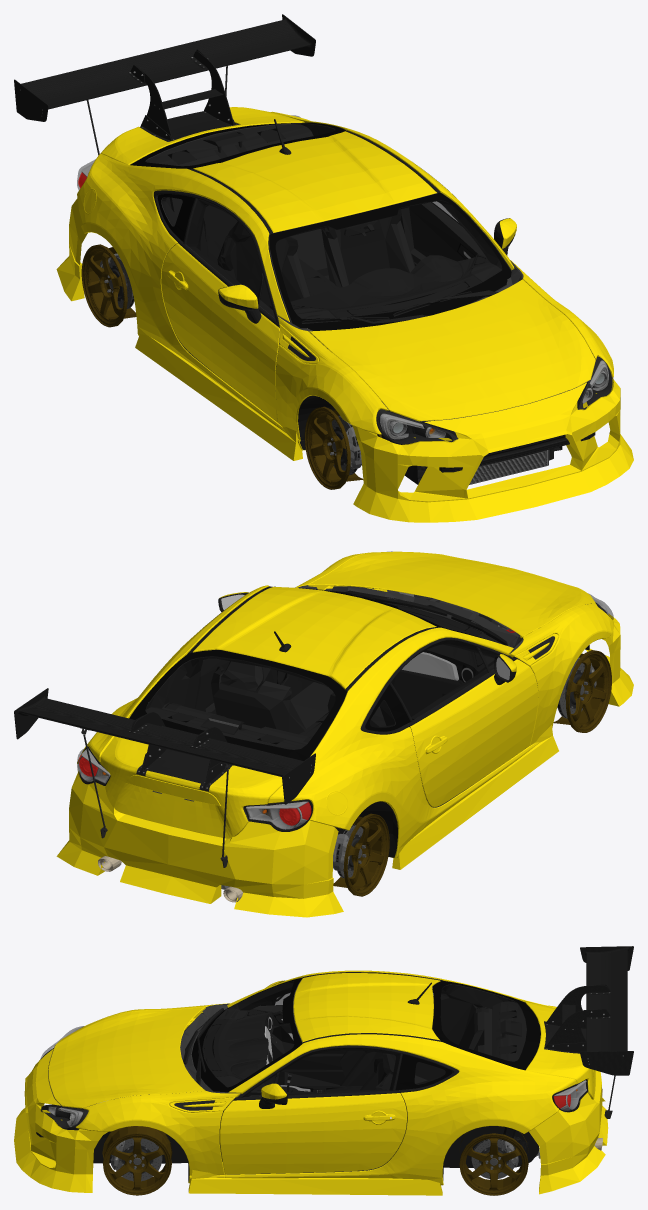
File: BRZ_URAS_Yellow7.glb
3 renders of one model, top to bottom at view 1: azimuth 30°, elevation 25°; view 2: azimuth 150°, elevation 25°; view 3: azimuth 270°, elevation 25°, orthographic. The views are drawn at different scales.
Parts seen in each view (by area): view 1: S1:Hood6_Mesh_022_M_Engine_Max_004_S1:M_CarPaint_Max1_0, S1:Interior5_Mesh_006_M_Interior_Max_S1:M_Interior_Max1_0, URAS_Object_10, S1:Glass6_Mesh_005_M_Opaque_PlasticRoughBlack_Max4_S1:M_Glas, S1:FendersR6_Mesh_019_M_CarPaint_Max_006_S1:M_CarPaint_Max1_, S1:Chassis7_Mesh_M_Opaque_PlasticSmoothBlack_Max_S1:M_CarPai, subaru:Wing6a_Carbon1_Geo_lodA_Wing6a_Carbon1_Geo_lodA_Subar, S1:DoorR4_Mesh_003_M_Opaque_PlasticSmoothBlack_Max1_S1:M_Car, S1:FenderFR6_Mesh_016_M_Opaque_PlasticRoughBlack_Max_008_S1:, S1:Glass6_Mesh_005_M_Opaque_PlasticRoughBlack_Max8_S1:Glass_, S1:DoorR_Glass4_Mesh_004_M_Glass_WindowRight_Low_S1:M_Glass_, URAS_Object_6 (+15 smaller); view 2: URAS_Object_8, S1:FendersR6_Mesh_019_M_CarPaint_Max_006_S1:M_CarPaint_Max1_, S1:Interior5_Mesh_006_M_Interior_Max_S1:M_Interior_Max1_0, S1:Chassis7_Mesh_M_Opaque_PlasticSmoothBlack_Max_S1:M_CarPai, S1:Glass6_Mesh_005_M_Opaque_PlasticRoughBlack_Max1_S1:M_Glas, S1:Hood6_Mesh_022_M_Engine_Max_004_S1:M_CarPaint_Max1_0, S1:DoorR4_Mesh_003_M_Opaque_PlasticSmoothBlack_Max1_S1:M_Car, subaru:Wing6a_Paint_Geo_lodA_Wing6a_Paint_Geo_lodA_Subaru_BR, subaru:Wing6a_Carbon1_Geo_lodA_Wing6a_Carbon1_Geo_lodA_Subar, S1:FenderFR6_Mesh_016_M_Opaque_PlasticRoughBlack_Max_008_S1:, S1:DoorR_Glass4_Mesh_004_M_Glass_WindowRight_Low_S1:M_Glass_, URAS_Object_6 (+14 smaller); view 3: S1:FendersR6_Mesh_019_M_CarPaint_Max_006_S1:M_CarPaint_Max1_, S1:Interior5_Mesh_006_M_Interior_Max_S1:M_Interior_Max1_0, S1:DoorL4_Mesh_001_M_Opaque_PlasticSmoothBlack_Max3_S1:M_Car, S1:Hood6_Mesh_022_M_Engine_Max_004_S1:M_CarPaint_Max1_0, S1:Chassis7_Mesh_M_Opaque_PlasticSmoothBlack_Max_S1:M_CarPai, subaru:Wing6a_Carbon1_Geo_lodA_Wing6a_Carbon1_Geo_lodA_Subar, S1:FenderFL6_Mesh_015_M_Opaque_PlasticRoughBlack_Max_007_S1:, URAS_Object_10, S1:Glass6_Mesh_005_M_Opaque_PlasticRoughBlack_Max4_S1:M_Glas, URAS_Object_8, S1:Glass6_Mesh_005_M_Opaque_PlasticRoughBlack_Max1_S1:M_Glas, S1:DoorL_Glass4_Mesh_002_M_Glass_WindowLeft_Low_S1:M_Glass_W (+18 smaller).
Boxes of the visible parts, x1,y1,x2,y2 form: S1:Hood6_Mesh_022_M_Engine_Max_004_S1:M_CarPaint_Max1_0: (309, 279, 595, 421); S1:Interior5_Mesh_006_M_Interior_Max_S1:M_Interior_Max1_0: (146, 124, 502, 386); URAS_Object_10: (352, 378, 633, 522); S1:Glass6_Mesh_005_M_Opaque_PlasticRoughBlack_Max4_S1:M_Glas: (276, 201, 501, 318); S1:FendersR6_Mesh_019_M_CarPaint_Max_006_S1:M_CarPaint_Max1_: (77, 111, 514, 426); S1:Chassis7_Mesh_M_Opaque_PlasticSmoothBlack_Max_S1:M_CarPai: (193, 131, 436, 232); subaru:Wing6a_Carbon1_Geo_lodA_Wing6a_Carbon1_Geo_lodA_Subar: (14, 14, 315, 140); S1:DoorR4_Mesh_003_M_Opaque_PlasticSmoothBlack_Max1_S1:M_Car: (161, 243, 279, 421); S1:FenderFR6_Mesh_016_M_Opaque_PlasticRoughBlack_Max_008_S1:: (275, 317, 388, 450); S1:Glass6_Mesh_005_M_Opaque_PlasticRoughBlack_Max8_S1:Glass_: (269, 193, 511, 330); S1:DoorR_Glass4_Mesh_004_M_Glass_WindowRight_Low_S1:M_Glass_: (186, 199, 274, 317); URAS_Object_6: (135, 334, 302, 460); URAS_Object_8: (56, 771, 343, 917); S1:FendersR6_Mesh_019_M_CarPaint_Max_006_S1:M_CarPaint_Max1_: (77, 585, 530, 858); S1:Interior5_Mesh_006_M_Interior_Max_S1:M_Interior_Max1_0: (145, 598, 525, 807); S1:Chassis7_Mesh_M_Opaque_PlasticSmoothBlack_Max_S1:M_CarPai: (193, 586, 436, 689); S1:Glass6_Mesh_005_M_Opaque_PlasticRoughBlack_Max1_S1:M_Glas: (145, 656, 343, 749); S1:Hood6_Mesh_022_M_Engine_Max_004_S1:M_CarPaint_Max1_0: (309, 551, 595, 636); S1:DoorR4_Mesh_003_M_Opaque_PlasticSmoothBlack_Max1_S1:M_Car: (410, 659, 538, 807); subaru:Wing6a_Paint_Geo_lodA_Wing6a_Paint_Geo_lodA_Subaru_BR: (100, 736, 282, 838); subaru:Wing6a_Carbon1_Geo_lodA_Wing6a_Carbon1_Geo_lodA_Subar: (14, 688, 315, 804); S1:FenderFR6_Mesh_016_M_Opaque_PlasticRoughBlack_Max_008_S1:: (509, 603, 613, 749); S1:DoorR_Glass4_Mesh_004_M_Glass_WindowRight_Low_S1:M_Glass_: (391, 641, 496, 719); URAS_Object_6: (392, 725, 558, 869); S1:FendersR6_Mesh_019_M_CarPaint_Max_006_S1:M_CarPaint_Max1_: (225, 970, 576, 1185); S1:Interior5_Mesh_006_M_Interior_Max_S1:M_Interior_Max1_0: (202, 981, 526, 1174); S1:DoorL4_Mesh_001_M_Opaque_PlasticSmoothBlack_Max3_S1:M_Car: (220, 1093, 407, 1174); S1:Hood6_Mesh_022_M_Engine_Max_004_S1:M_CarPaint_Max1_0: (48, 1007, 204, 1108); S1:Chassis7_Mesh_M_Opaque_PlasticSmoothBlack_Max_S1:M_CarPai: (293, 973, 440, 1042); subaru:Wing6a_Carbon1_Geo_lodA_Wing6a_Carbon1_Geo_lodA_Subar: (545, 946, 633, 1075); S1:FenderFL6_Mesh_015_M_Opaque_PlasticRoughBlack_Max_007_S1:: (75, 1090, 240, 1183); URAS_Object_10: (14, 1049, 108, 1192); S1:Glass6_Mesh_005_M_Opaque_PlasticRoughBlack_Max4_S1:M_Glas: (203, 981, 293, 1086); URAS_Object_8: (529, 1070, 608, 1194); S1:Glass6_Mesh_005_M_Opaque_PlasticRoughBlack_Max1_S1:M_Glas: (432, 984, 526, 1061); S1:DoorL_Glass4_Mesh_002_M_Glass_WindowLeft_Low_S1:M_Glass_W: (245, 1048, 399, 1096).
Bounding box in the file's own units: 1.86 × 1.23 × 4.24.
Materials: 27 (10 with a texture image).
